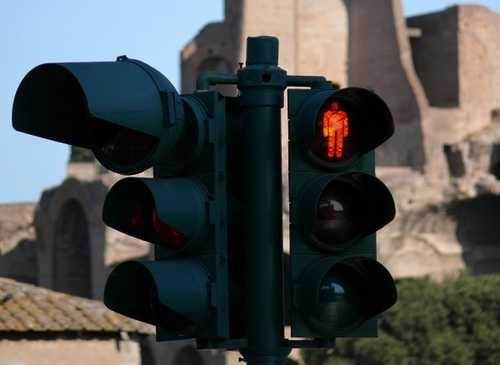red: (290, 81, 388, 343), (295, 79, 381, 174)
